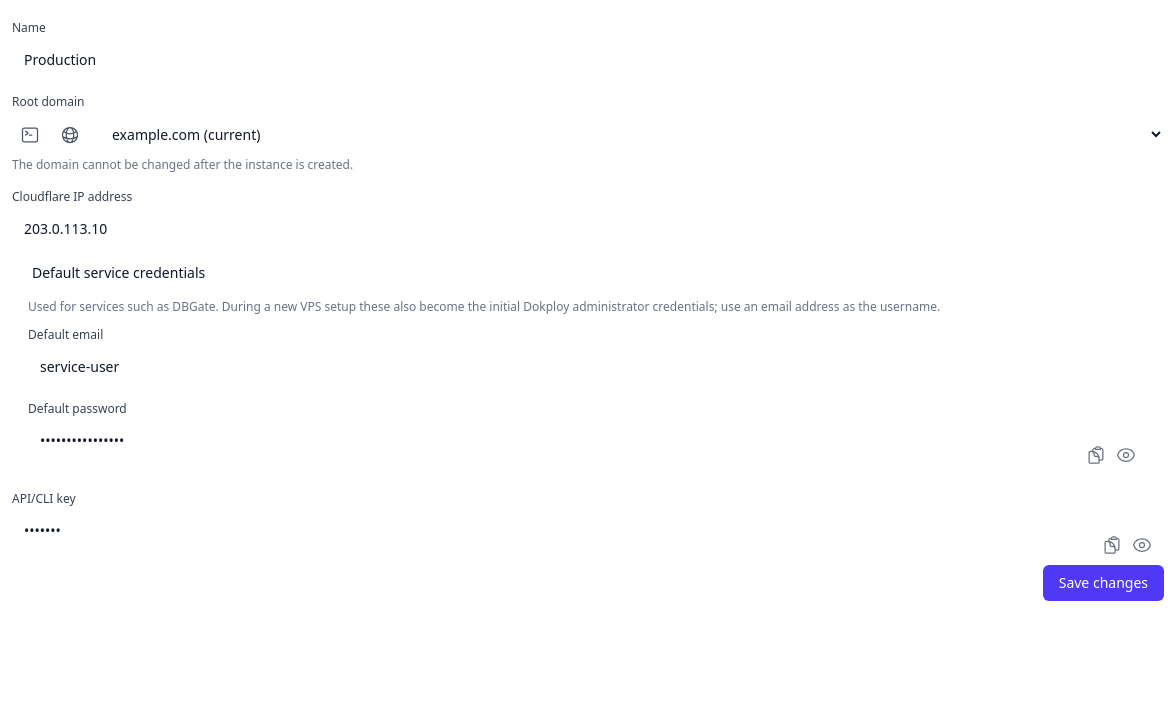
Test: DokployInstanceForm › shows instance values and default service credentials in edit mode
The width and height of the screenshot is (1176, 720).
Expected: the text "Default service credentials" is shown, [28,263,209,283]
Expected: the field labelled "Cloudflare IP address" holds "203.0.113.10", [12,211,1164,247]
Click the button named "Show default password" at (1126, 455), box [1112,441,1140,469]
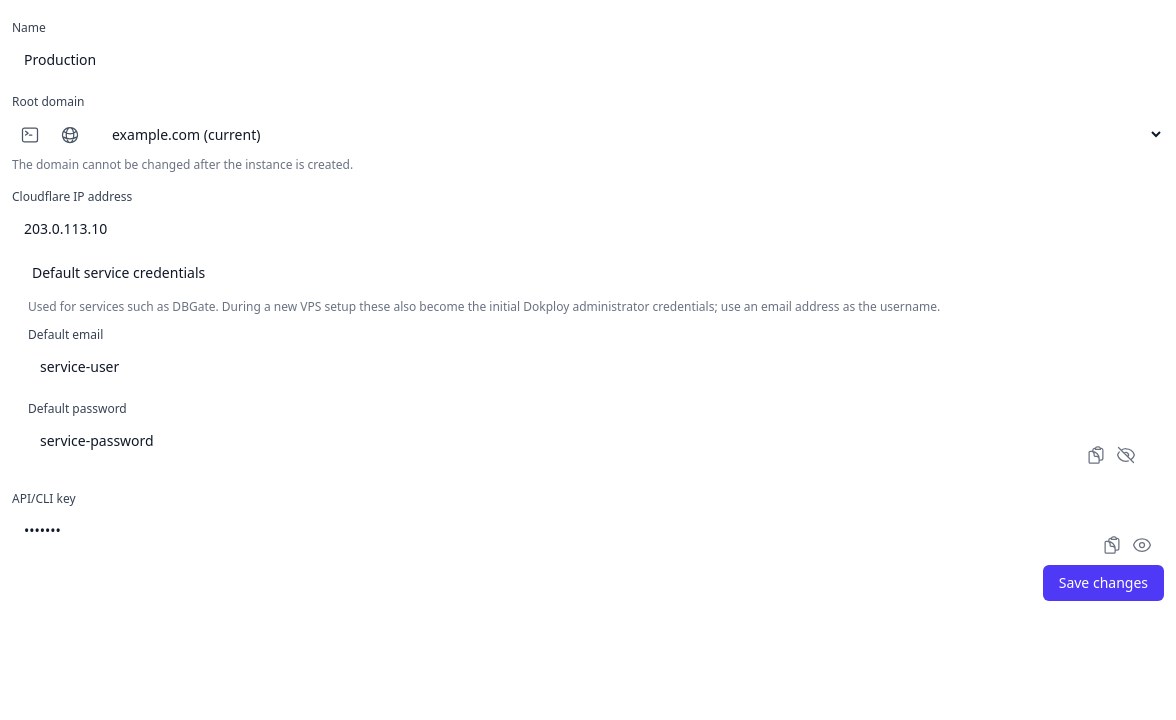
Now the button named "Hide default password" is shown, box [1112,441,1140,469]
